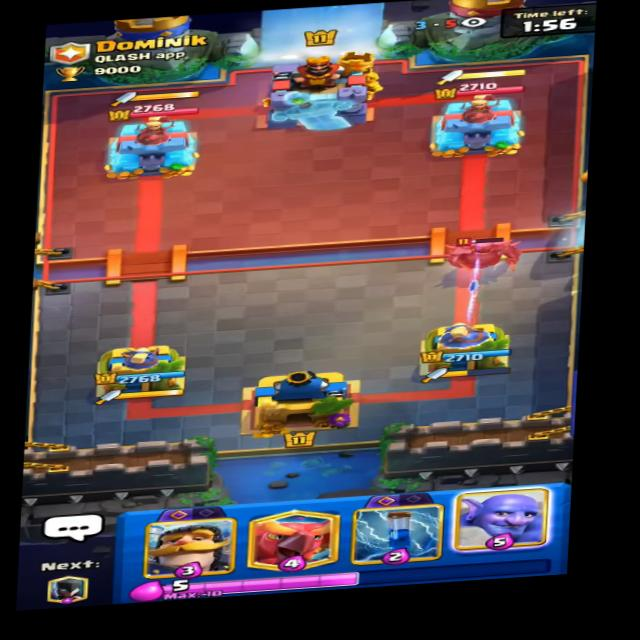Pekka: (435, 225, 517, 276)
